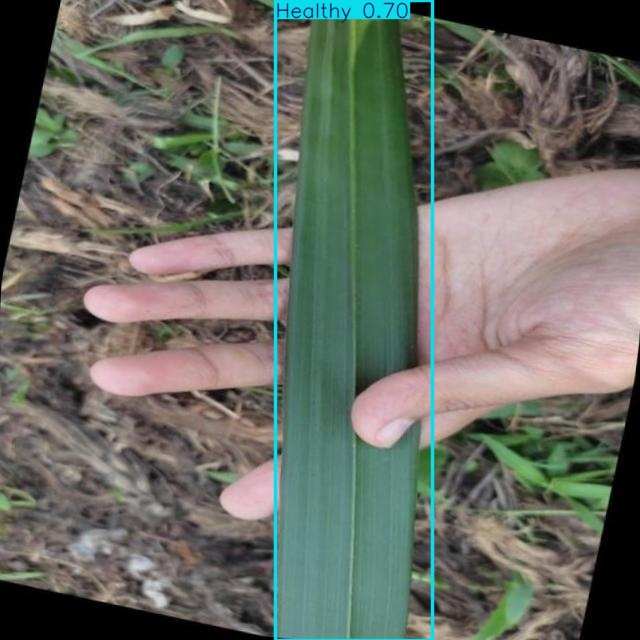Healthy: (276, 0, 432, 640)
